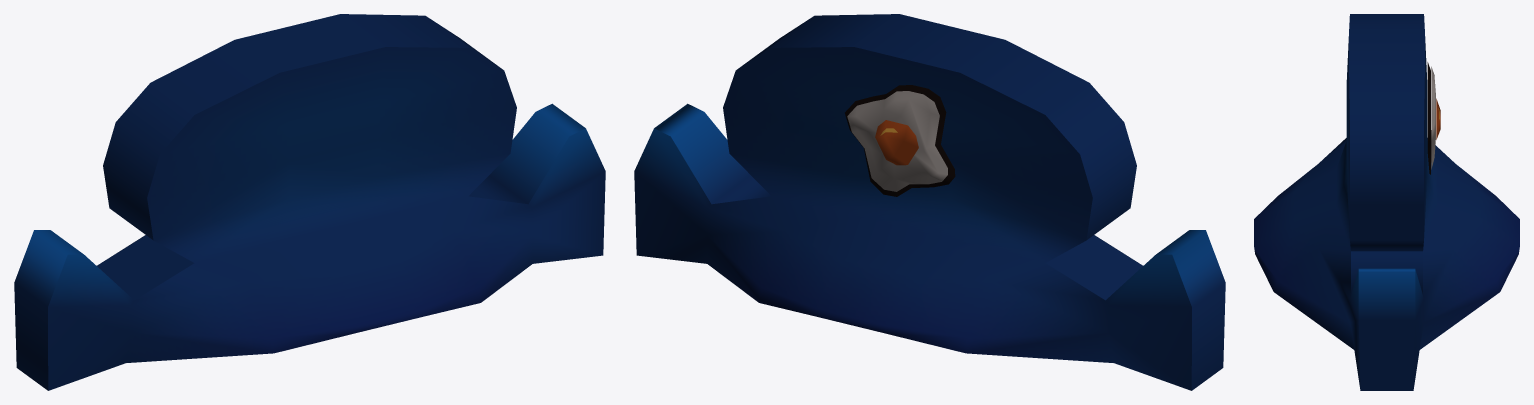
The model's file is hat_captaincrunch.glb.
3 views of the same model, side by side, from view 1: azimuth 30°, elevation 25°; view 2: azimuth 150°, elevation 25°; view 3: azimuth 270°, elevation 25° (orthographic). The views are drawn at different scales.
Parts seen in each view (by area): view 1: hat_captaincrunch; view 2: hat_captaincrunch; view 3: hat_captaincrunch.
Part boxes in pixels (x1,y1,x2,y2): hat_captaincrunch: [14, 14, 605, 390]; hat_captaincrunch: [634, 14, 1225, 390]; hat_captaincrunch: [1254, 14, 1519, 390].
Bounding box in the file's own units: 0.459 × 0.2109 × 0.2254.
